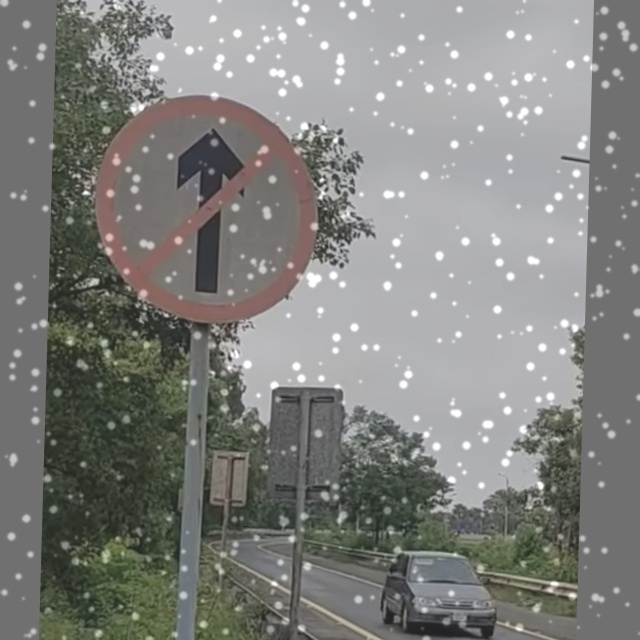No_Entry: (96, 94, 323, 327)
